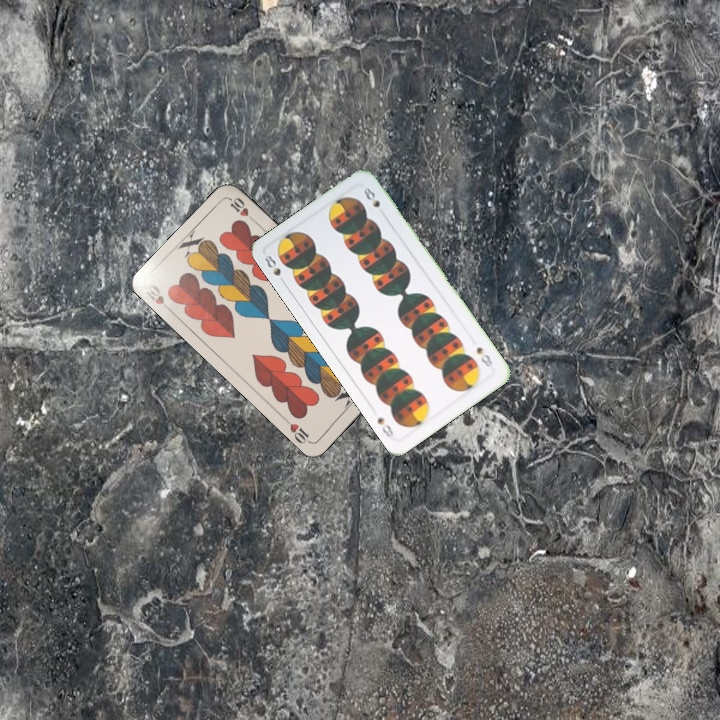H10: (142, 281, 175, 315)
S8: (260, 251, 289, 287), (472, 343, 496, 371)
